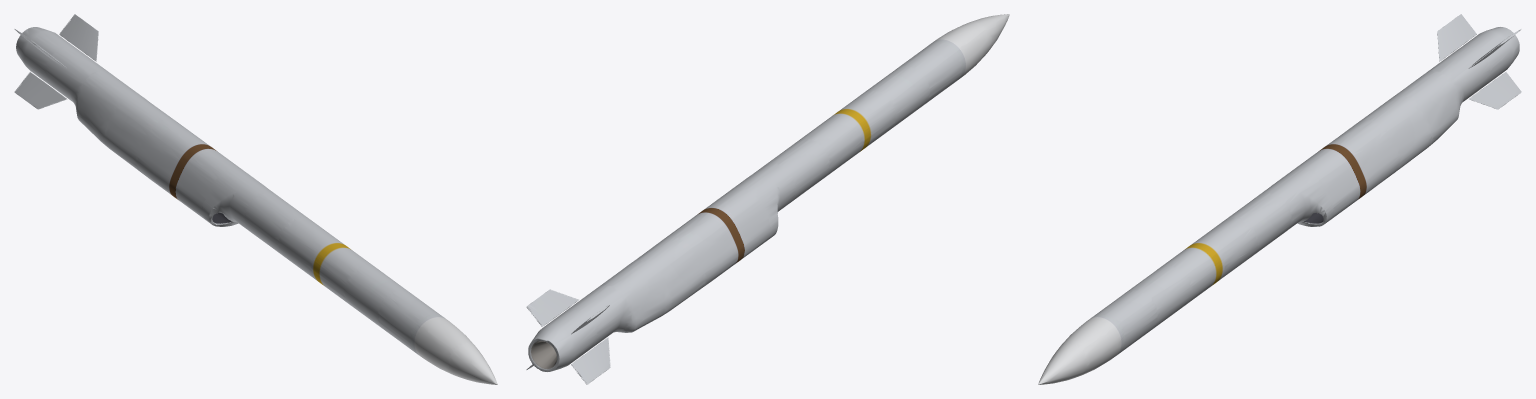
Rendered from meteor.glb.
3 views of the same model, side by side, from view 1: azimuth 30°, elevation 25°; view 2: azimuth 150°, elevation 25°; view 3: azimuth 330°, elevation 25° (orthographic).
Parts seen in each view (by area): view 1: airframe, fsim:fin:3899119507:1|elevator+aileron:-1+rudder:1@-20,20, fsim:fin:3419906077:1|elevator+aileron:1+rudder:1@-20,20; view 2: airframe, fsim:fin:3899119507:1|elevator+aileron:-1+rudder:1@-20,20, fsim:fin:3419906077:1|elevator+aileron:1+rudder:1@-20,20; view 3: airframe, fsim:fin:453677541:1|elevator+aileron:-1+rudder:-1@-20,20, fsim:fin:1916934482:1|elevator+aileron:1+rudder:-1@-20,20.
Part boxes in pixels (<box>): airframe: <box>16,27,497,384</box>; fsim:fin:3899119507:1|elevator+aileron:-1+rudder:1@-20,20: <box>14,72,67,109</box>; fsim:fin:3419906077:1|elevator+aileron:1+rudder:1@-20,20: <box>59,14,98,61</box>; airframe: <box>528,14,1009,371</box>; fsim:fin:3899119507:1|elevator+aileron:-1+rudder:1@-20,20: <box>571,337,610,384</box>; fsim:fin:3419906077:1|elevator+aileron:1+rudder:1@-20,20: <box>526,289,578,326</box>; airframe: <box>1038,27,1519,384</box>; fsim:fin:453677541:1|elevator+aileron:-1+rudder:-1@-20,20: <box>1437,14,1476,61</box>; fsim:fin:1916934482:1|elevator+aileron:1+rudder:-1@-20,20: <box>1469,72,1521,109</box>.
Size of the model in its own units: 0.2806 by 0.2804 by 3.65.
Materials: 3 (1 with a texture image).
